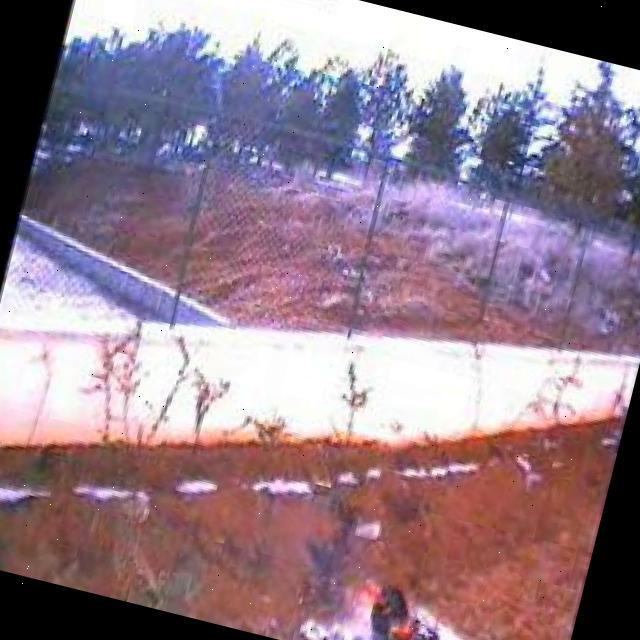fire: (330, 564, 449, 640)
